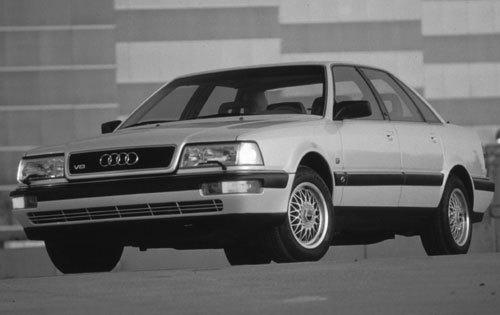car: (8, 59, 498, 266)
